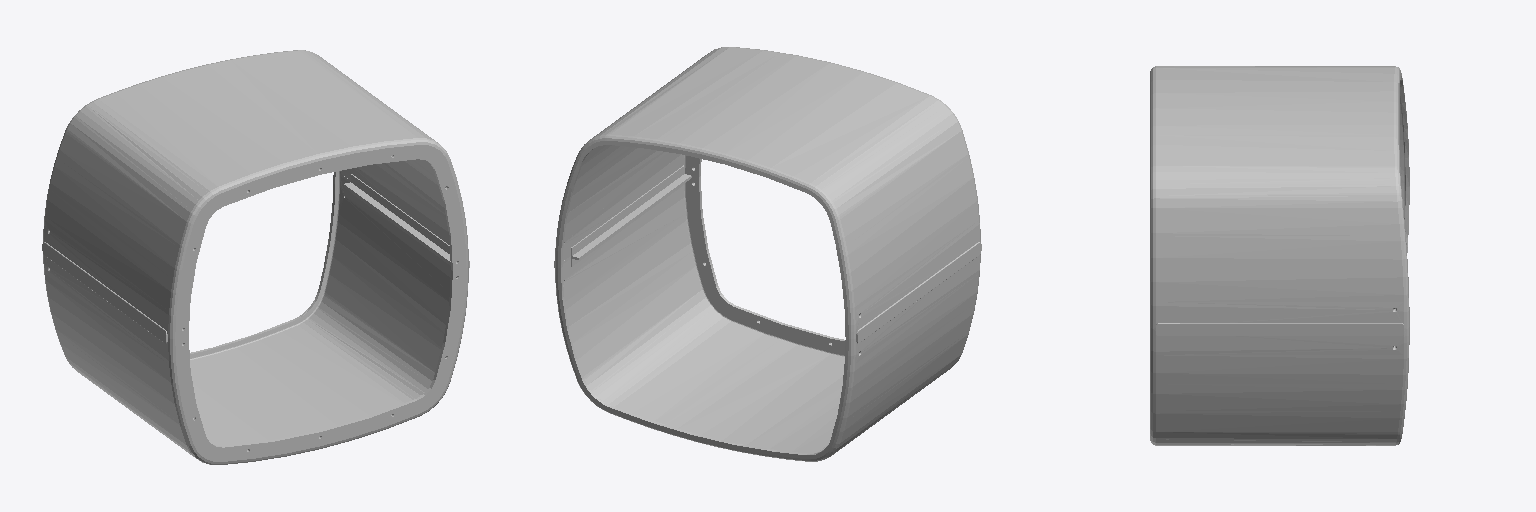
Rendered from movo_mid_body.obj.
3 renders of one model, left to right at view 1: azimuth 30°, elevation 25°; view 2: azimuth 150°, elevation 25°; view 3: azimuth 270°, elevation 25°, orthographic.
Size of the model in its own units: 0.4203 by 0.3912 by 0.3116.